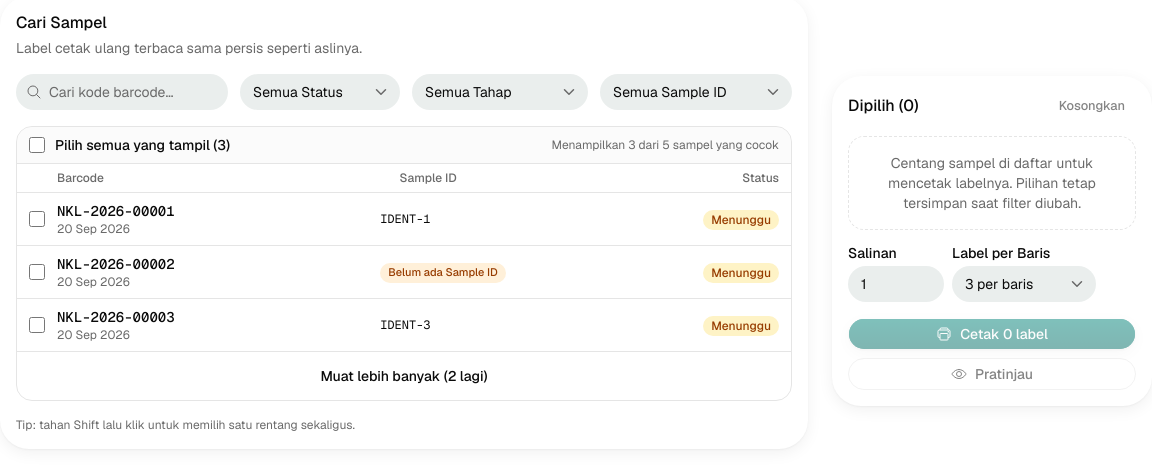
Scenario: whether a barcode has its Sample ID yet › filters to the barcodes still without one
expect the text "NKL-2026-00001" is shown: met, box [57,202,175,220]
Step 1. Click the dropdown labelled "Sample ID" → (696, 92), box [600,74,792,110]
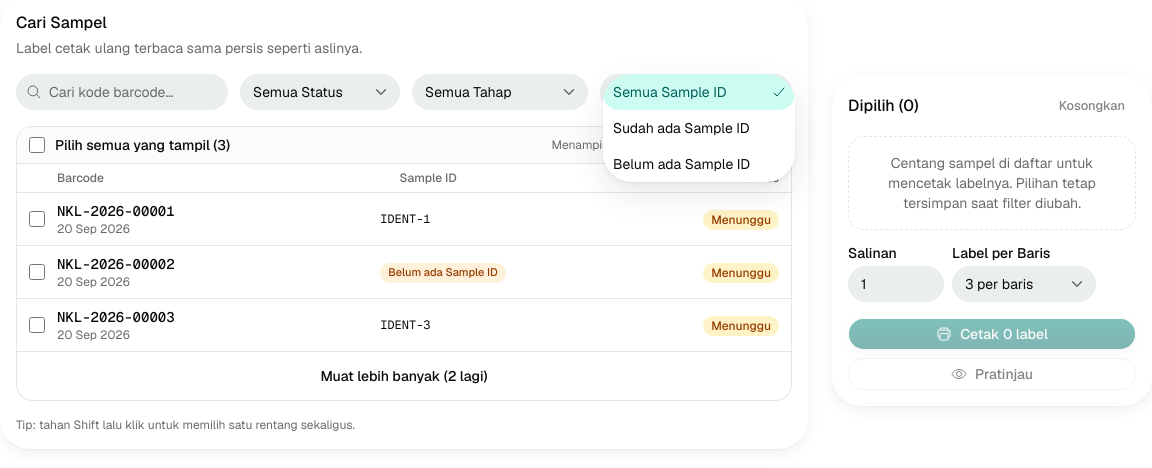
Step 2. Click the option "Belum ada Sample ID" → (682, 164), box [613,155,750,173]
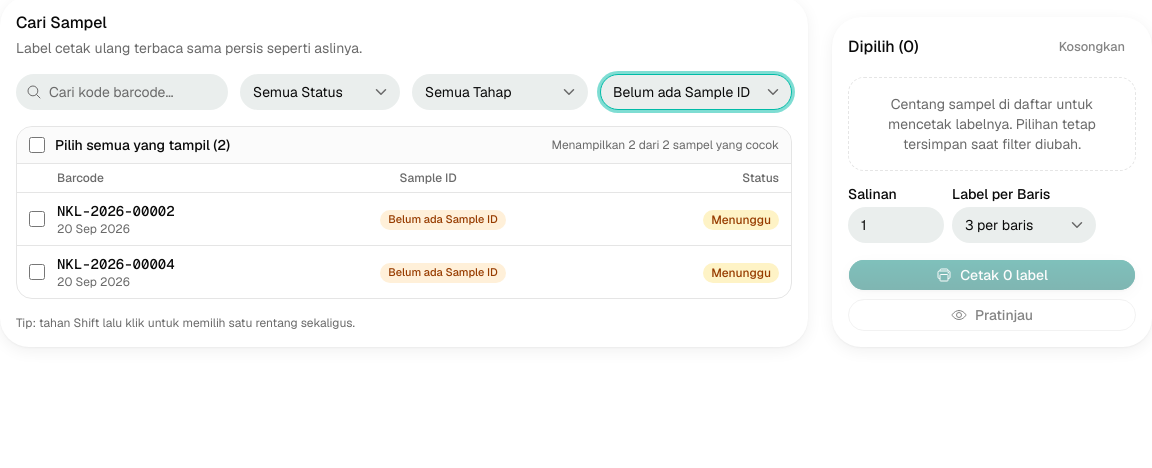
expect the text "NKL-2026-00002" is shown: met, box [57,202,175,220]
expect the text "NKL-2026-00004" is shown: met, box [57,255,175,273]
expect the text "NKL-2026-00001" is gone: met
